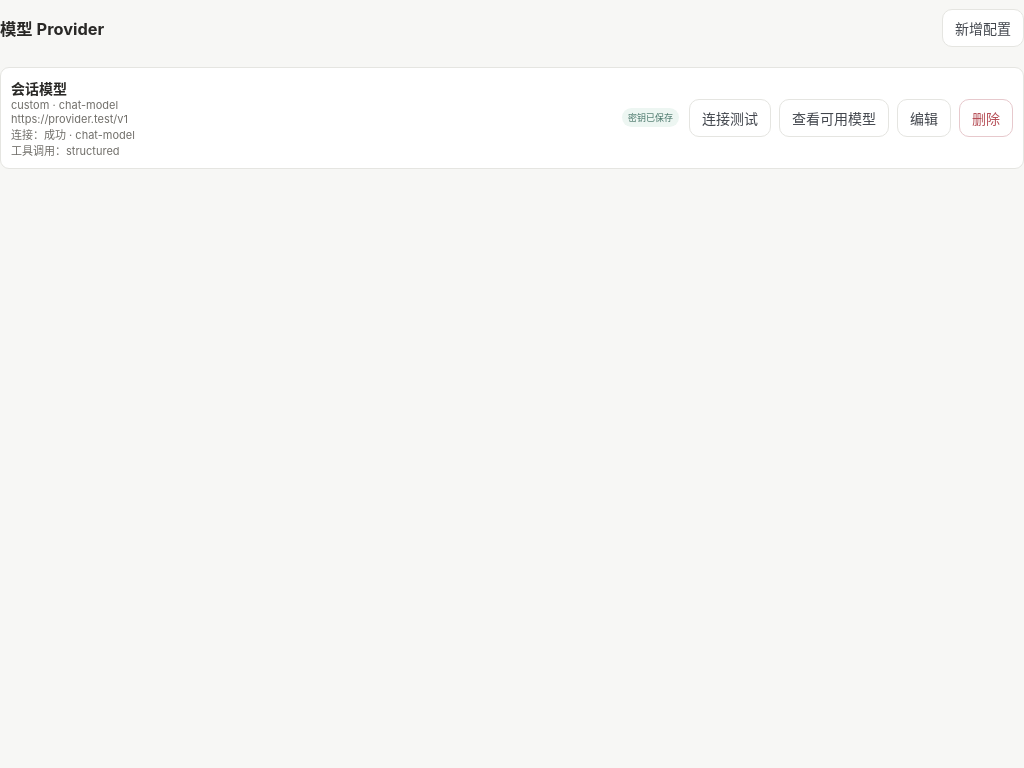
Provider 删除确认 › 有阻断引用时显示原因且不发送删除请求
Click the button "删除": (986,118) [959,99,1013,137]
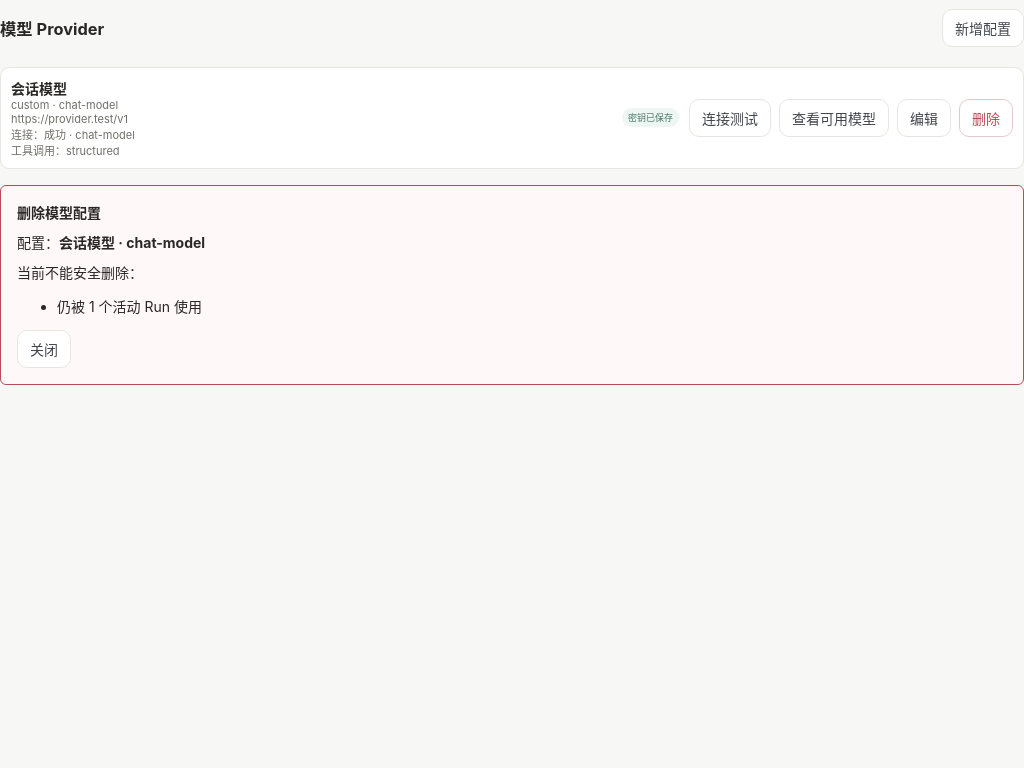
Now the message shows "当前不能安全删除", box [17,264,143,281]
Now the list item "仍被 1 个活动 Run 使用" is shown, box [57,298,202,315]
